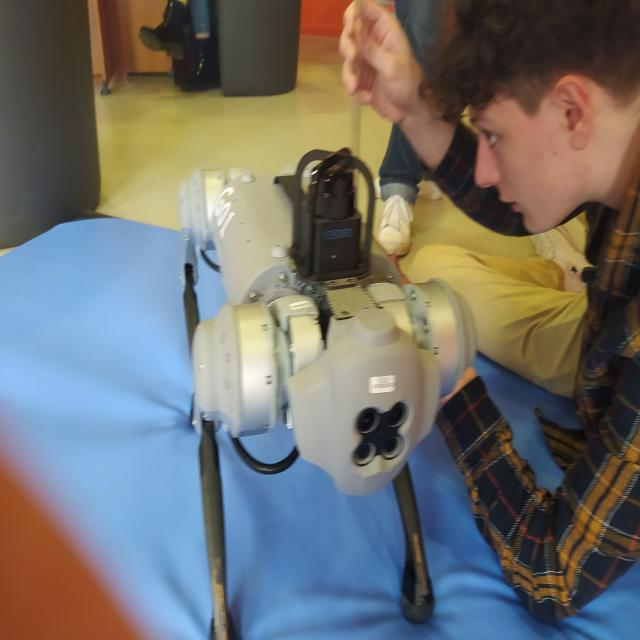unitree-go1-robot: (160, 138, 490, 640)
